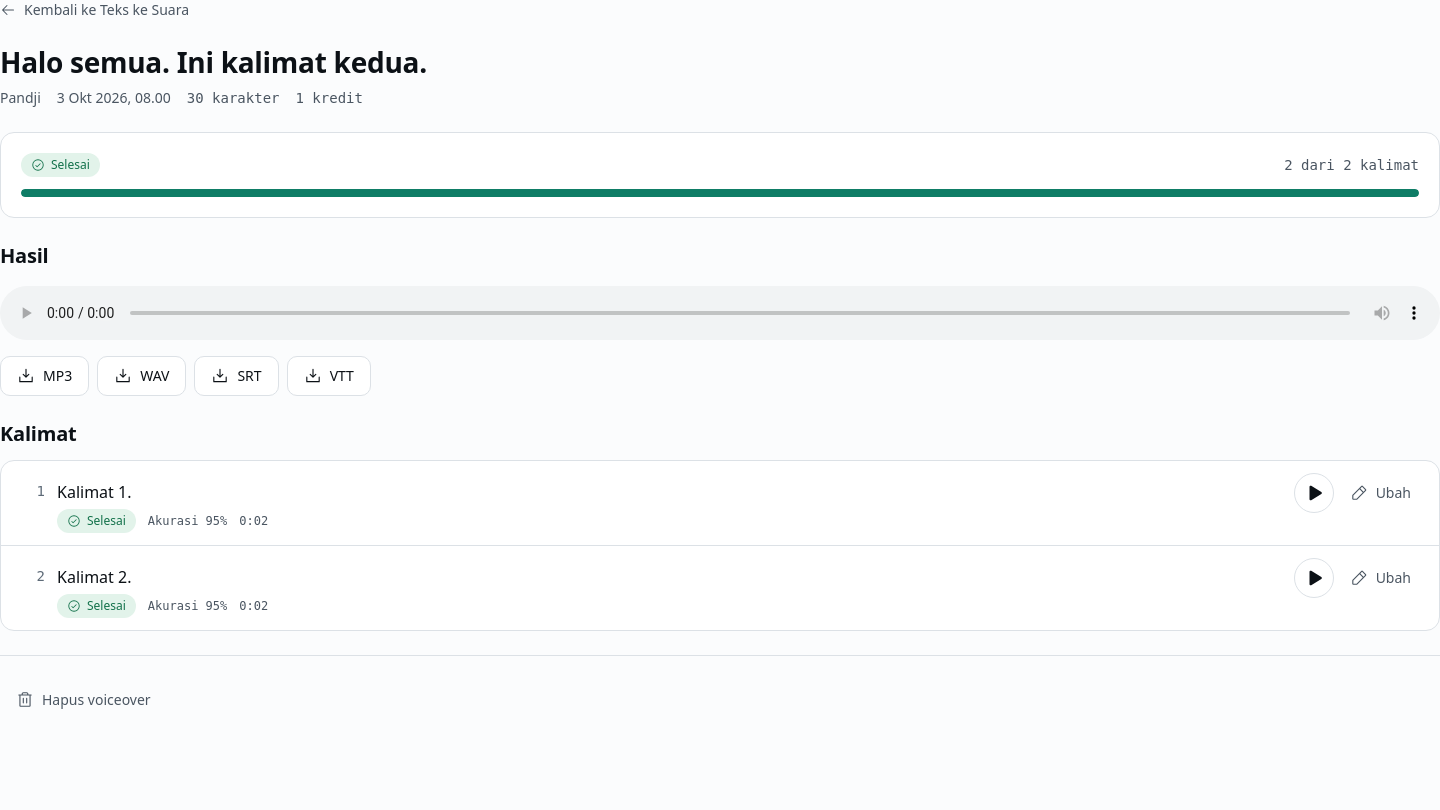
Test case: JobPage › regenerates one edited sentence and goes live again
The width and height of the screenshot is (1440, 810).
Click the button "Ubah" in the row of "Kalimat 2.": (1380, 578) [1338,560,1423,596]
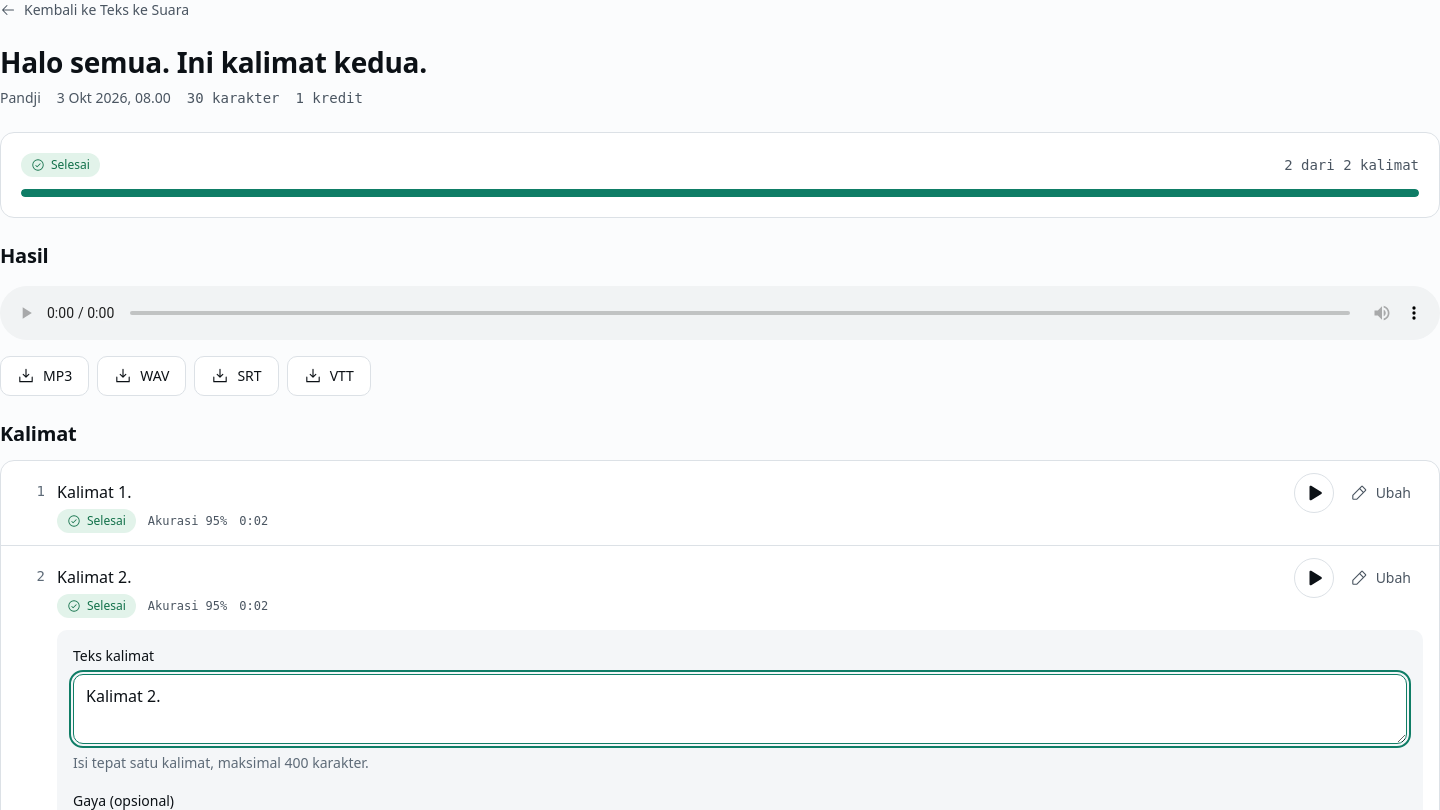
Replace the text in the text box labelled "Teks kalimat" with "Kalimat baru yang lebih jelas.": (740, 709) [73,674,1407,744]
(page scrolled)
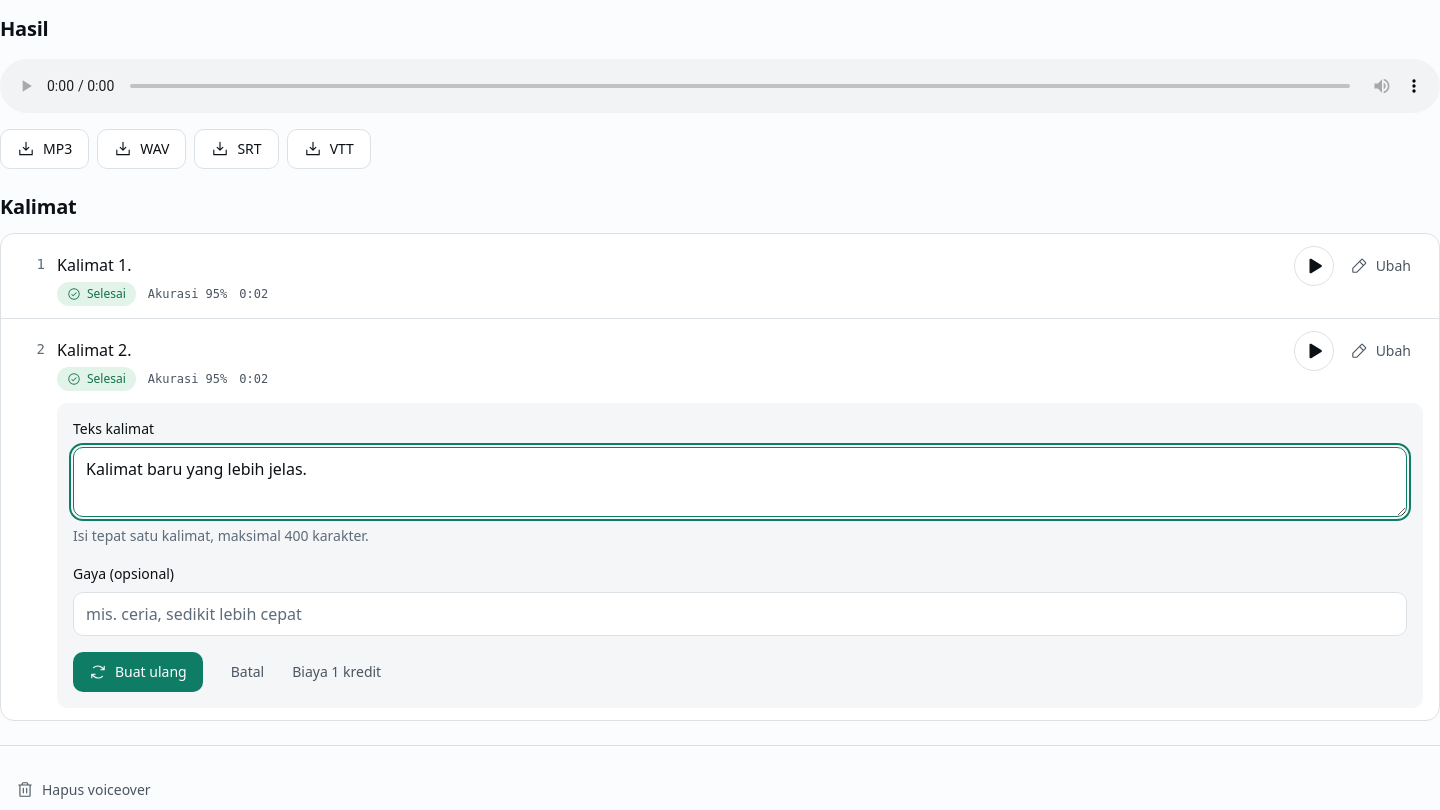
Now the text "Biaya 1 kredit" is shown, box [292,662,381,682]
Click the button "Buat ulang": (138, 672) [73,652,203,692]
(page scrolled)
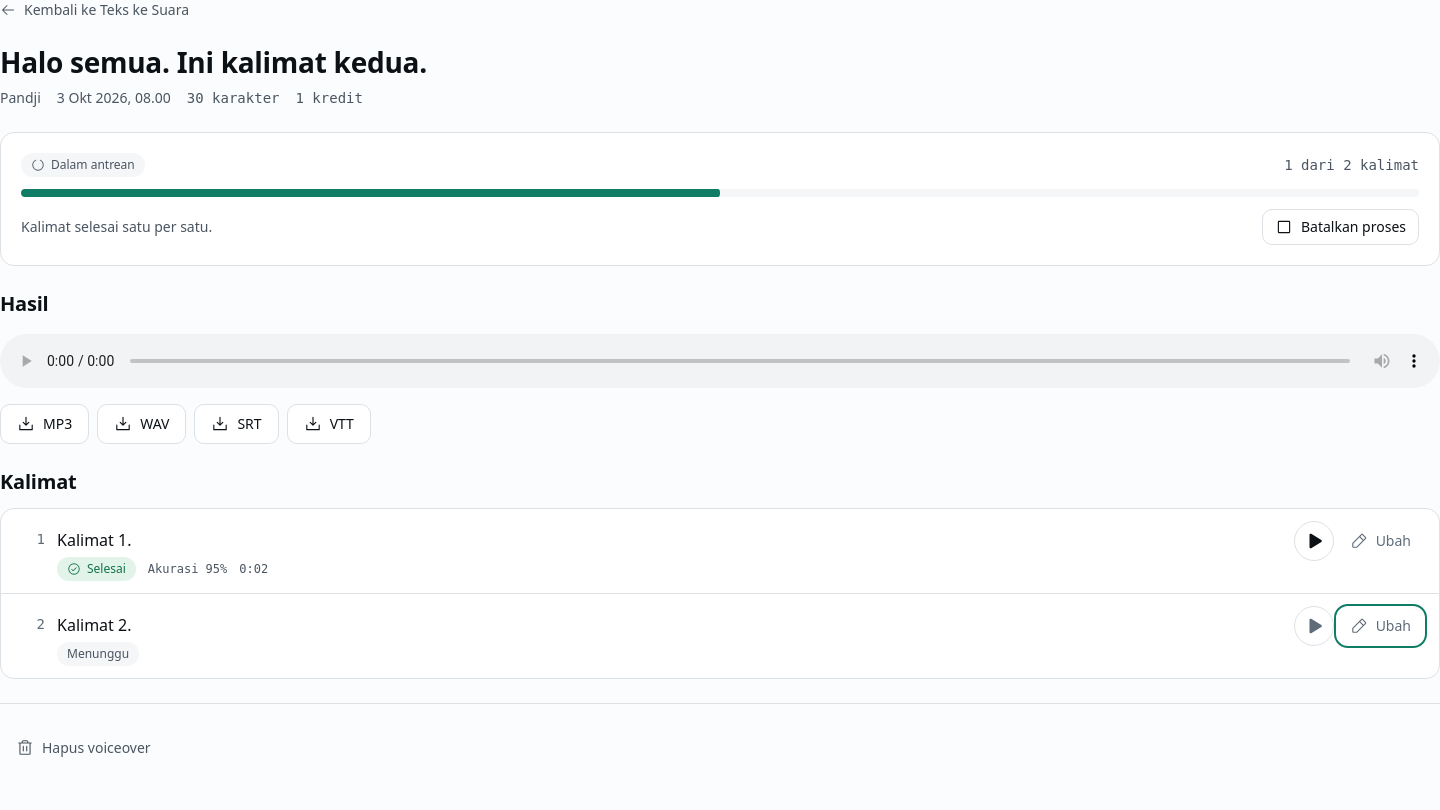
Now the text "Dalam antrean" is shown, box [21,153,145,177]
